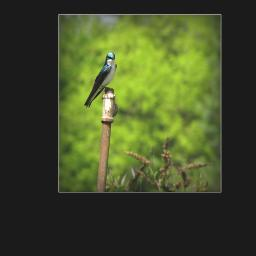Swallow: (84, 51, 117, 110)
